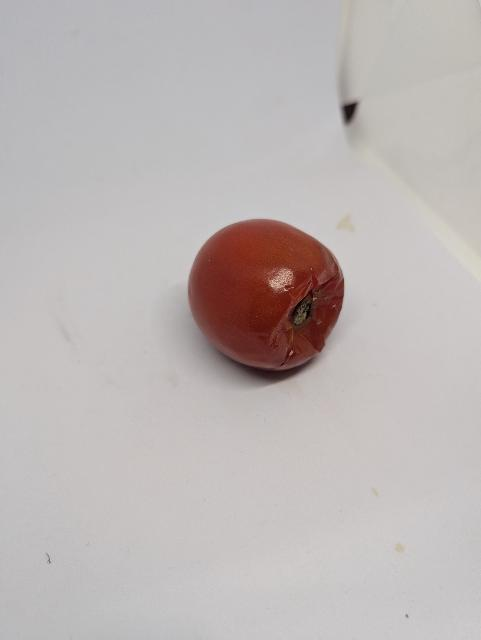defect: (184, 216, 357, 378)
